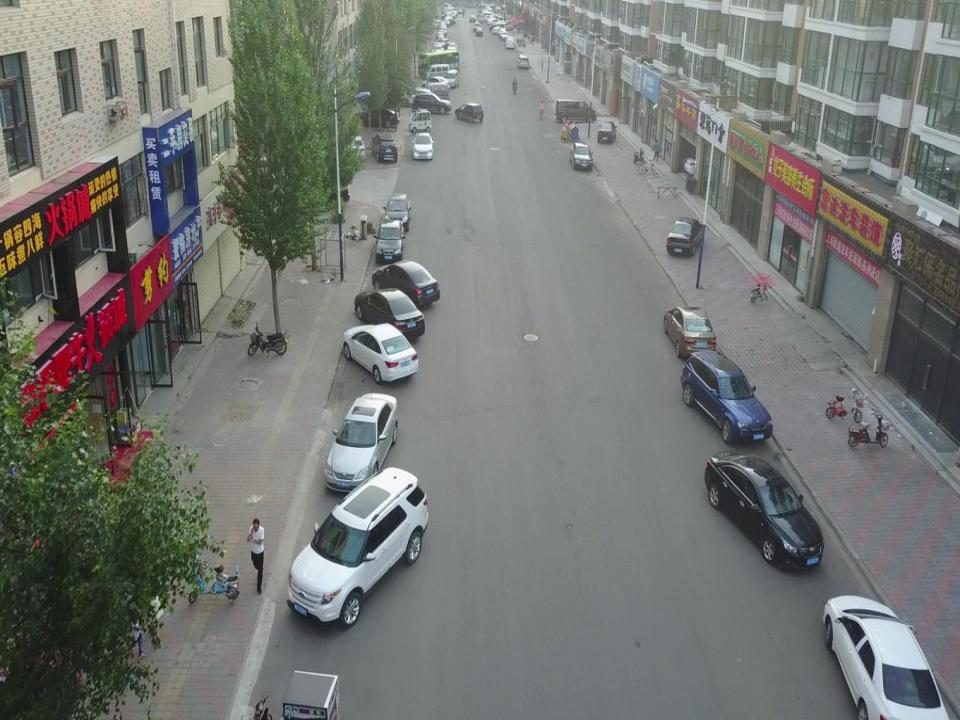bus: (418, 48, 459, 81)
car: (287, 465, 427, 628), (823, 596, 949, 720), (704, 449, 824, 568), (680, 351, 772, 443), (325, 395, 397, 494), (340, 323, 418, 384), (354, 285, 425, 340), (372, 259, 440, 312), (664, 306, 716, 359), (684, 153, 740, 179), (666, 217, 703, 255), (374, 221, 406, 263), (349, 105, 400, 129), (383, 192, 411, 232), (413, 94, 451, 114), (372, 133, 397, 162), (395, 88, 433, 106), (344, 134, 366, 164), (570, 142, 593, 170), (407, 108, 433, 132), (411, 133, 434, 160), (455, 102, 484, 123), (422, 76, 450, 95), (598, 121, 617, 143), (516, 56, 528, 68), (435, 39, 449, 49), (492, 26, 505, 35), (488, 24, 504, 31), (432, 45, 444, 54), (448, 42, 456, 53), (499, 26, 506, 38), (475, 27, 483, 37), (500, 30, 508, 40), (500, 24, 513, 30), (473, 23, 481, 32), (506, 39, 514, 48), (433, 42, 440, 52), (506, 37, 514, 45), (469, 15, 476, 23)
van: (554, 99, 597, 124), (422, 83, 450, 105), (424, 63, 450, 82), (444, 70, 460, 88)
